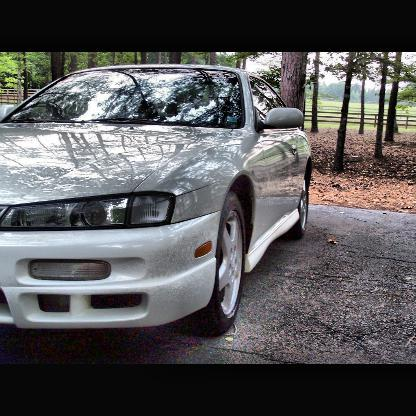Nissan 240SX Coupe 1998: (2, 66, 313, 332)
